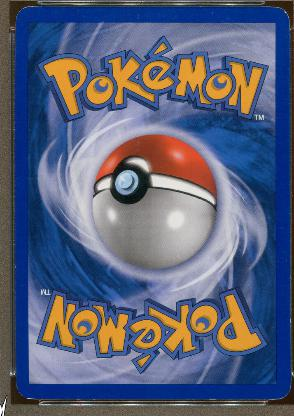Card: (11, 3, 291, 402)
Corner Wear: (14, 382, 40, 400), (14, 6, 33, 26), (266, 392, 286, 400), (280, 8, 288, 22)
Edge Wear: (75, 398, 97, 400), (205, 398, 218, 400), (288, 274, 289, 284), (288, 211, 289, 216), (198, 6, 204, 6)
